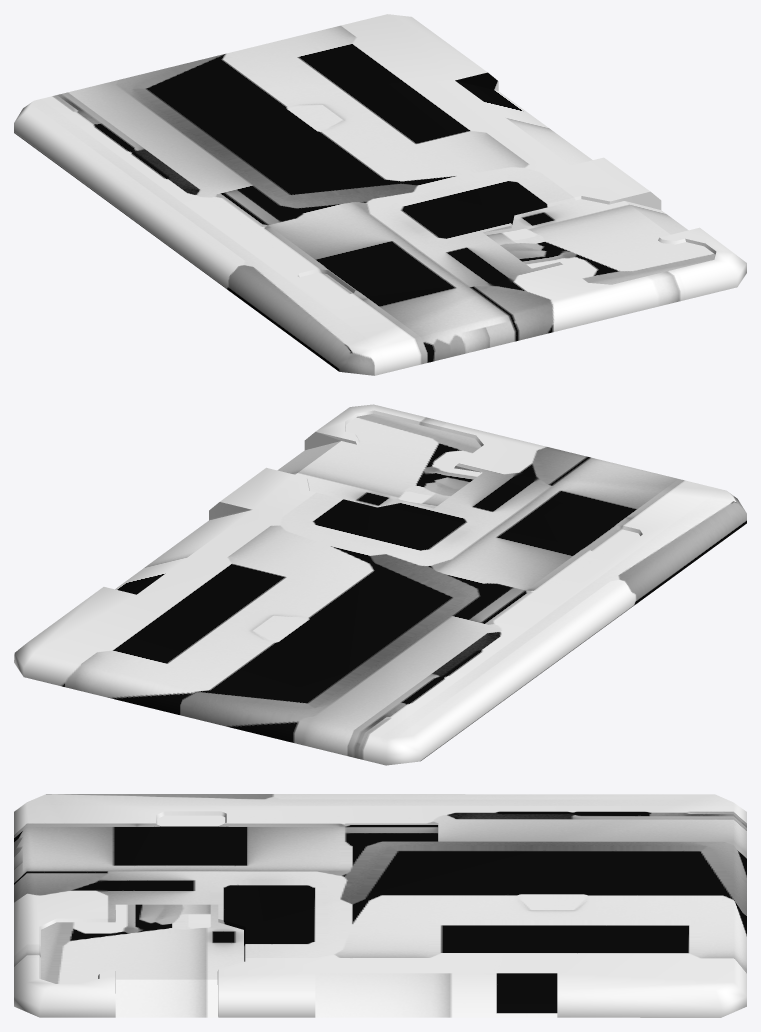
The model's file is WF_Concrete.fbx.
The picture shows the model from 3 angles, top to bottom: view 1: azimuth 30°, elevation 25°; view 2: azimuth 150°, elevation 25°; view 3: azimuth 270°, elevation 25°; orthographic projection. The views are drawn at different scales.
Visible parts, largest first — view 1: WF_Concrete; view 2: WF_Concrete; view 3: WF_Concrete.
Part boxes in pixels (x1,y1,x2,y2): WF_Concrete: (14,14,746,375); WF_Concrete: (14,404,746,765); WF_Concrete: (14,794,746,1017).
Size of the model in its own units: 401 by 20.06 by 600.
